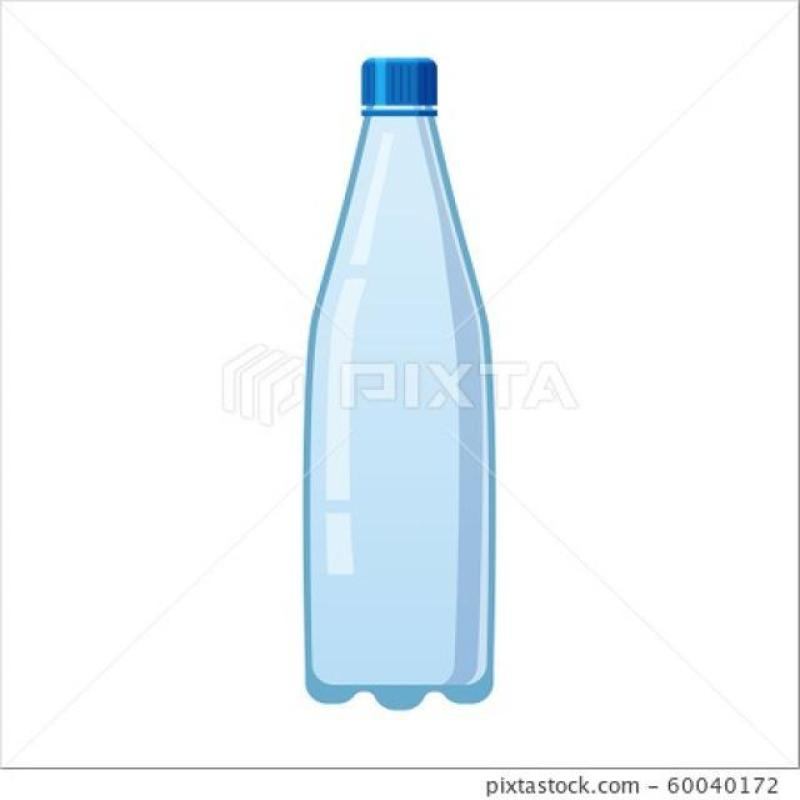botella: (301, 59, 499, 709)
